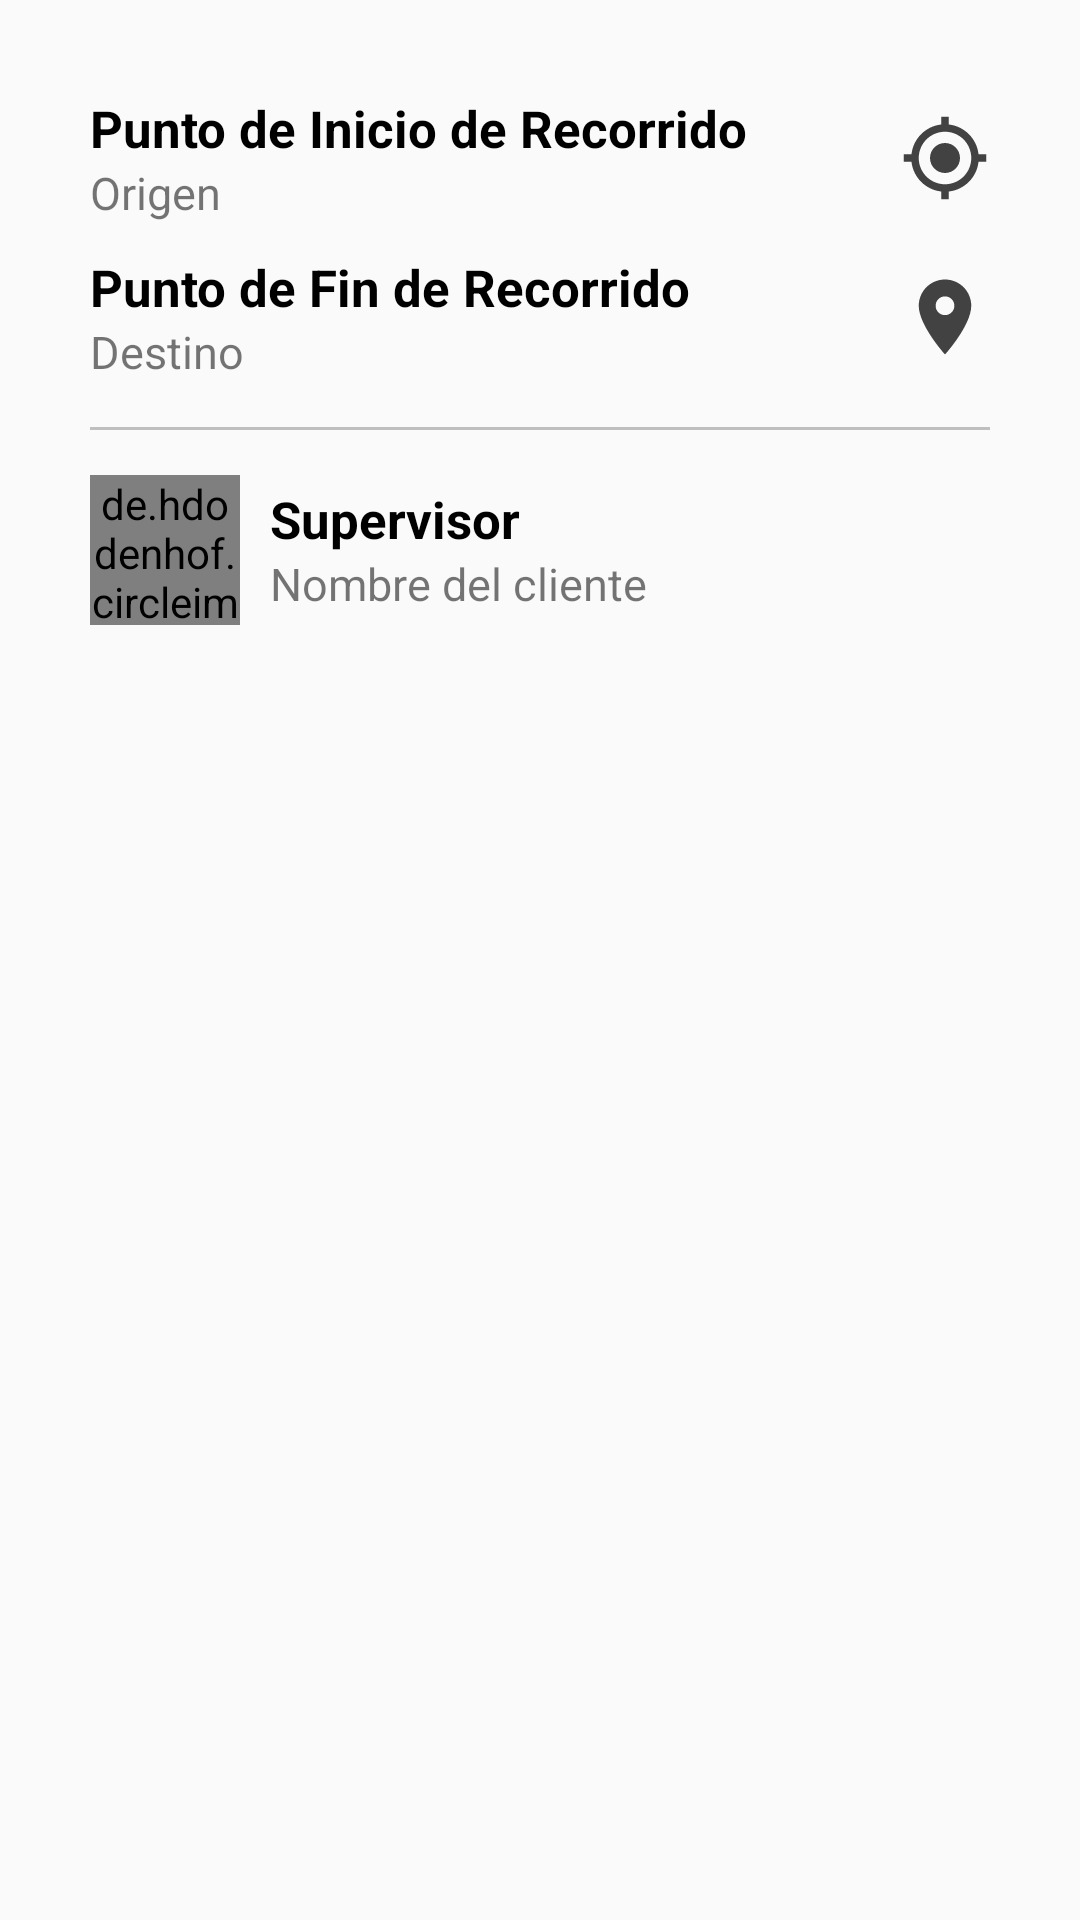

Locate icon controls on the screen. Image size 1080×1920, boxes as (x1, y1, x2, y2).
location: (903, 116, 987, 200), (918, 279, 972, 354)
